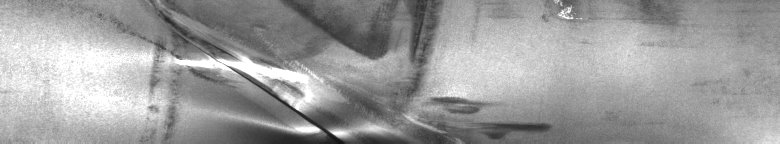ke: (132, 4, 582, 136)
